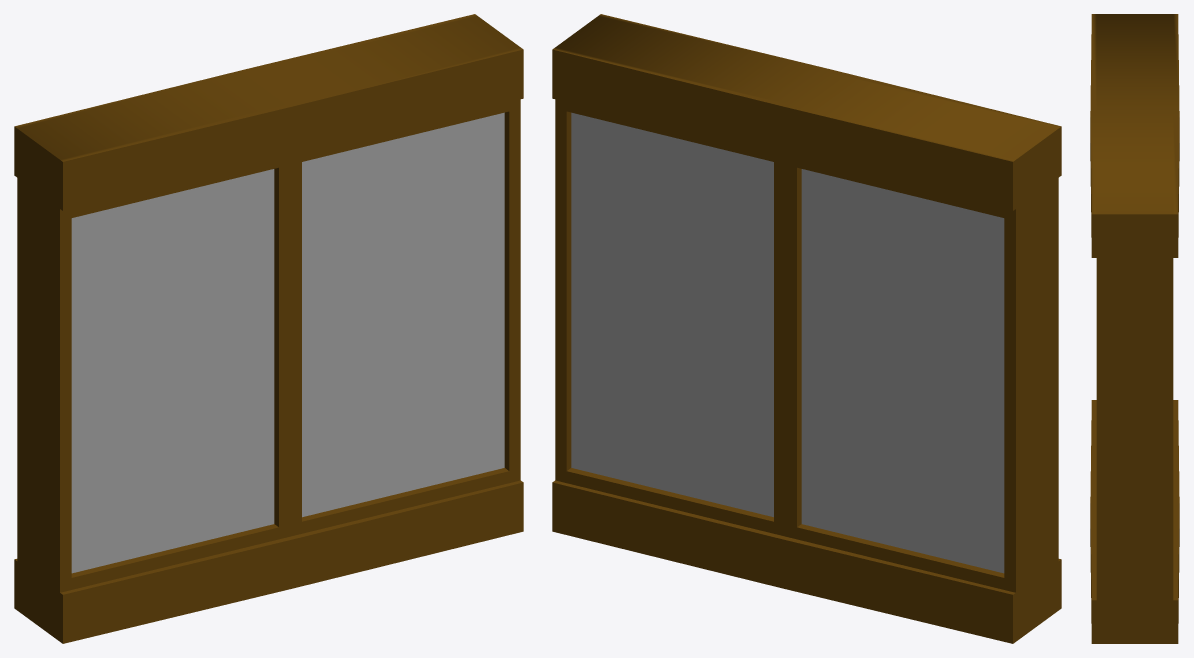
The model's file is wall_wood.fbx.
3 views of the same model, side by side, from view 1: azimuth 30°, elevation 25°; view 2: azimuth 150°, elevation 25°; view 3: azimuth 270°, elevation 25° (orthographic). The views are drawn at different scales.
Parts seen in each view (by area): view 1: Cube.005; view 2: Cube.005; view 3: Cube.005.
Part boxes in pixels (x1,y1,x2,y2): Cube.005: (14, 14, 523, 643); Cube.005: (552, 14, 1061, 643); Cube.005: (1090, 14, 1179, 643).
Bounding box in the file's own units: 200 × 200 × 37.58.
